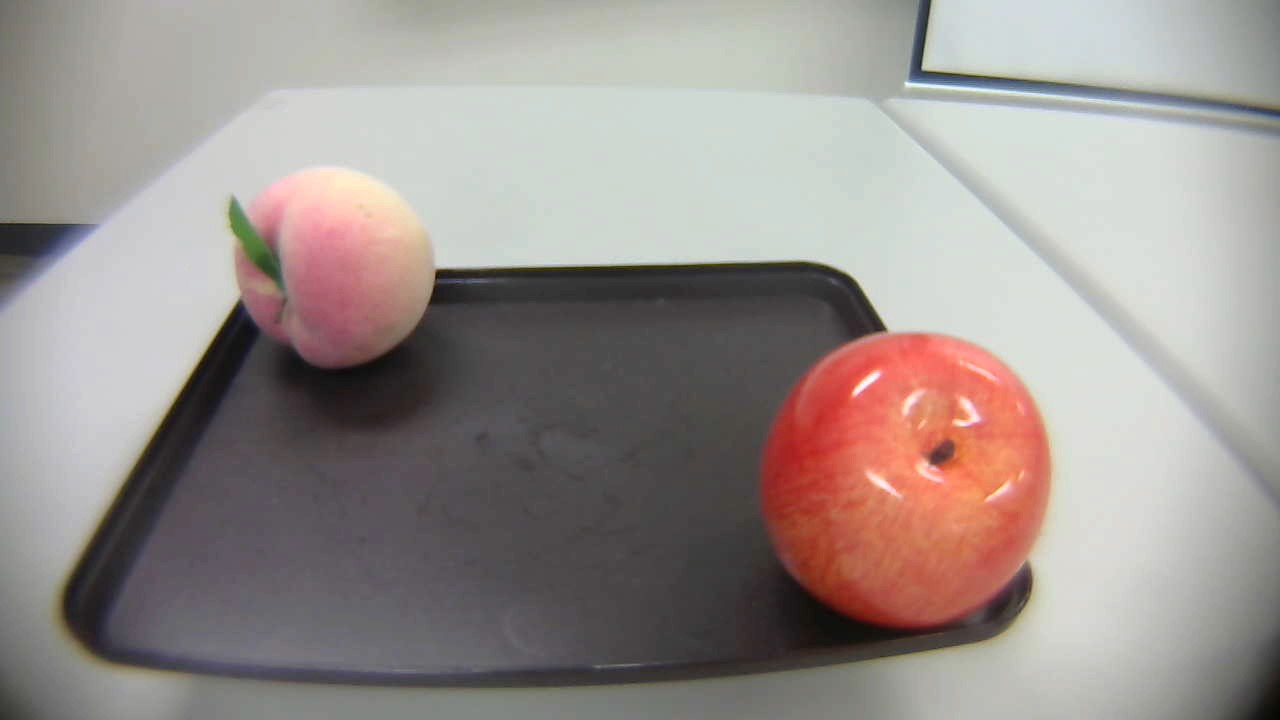peach: (220, 166, 452, 379)
red apple: (746, 329, 1068, 629)
